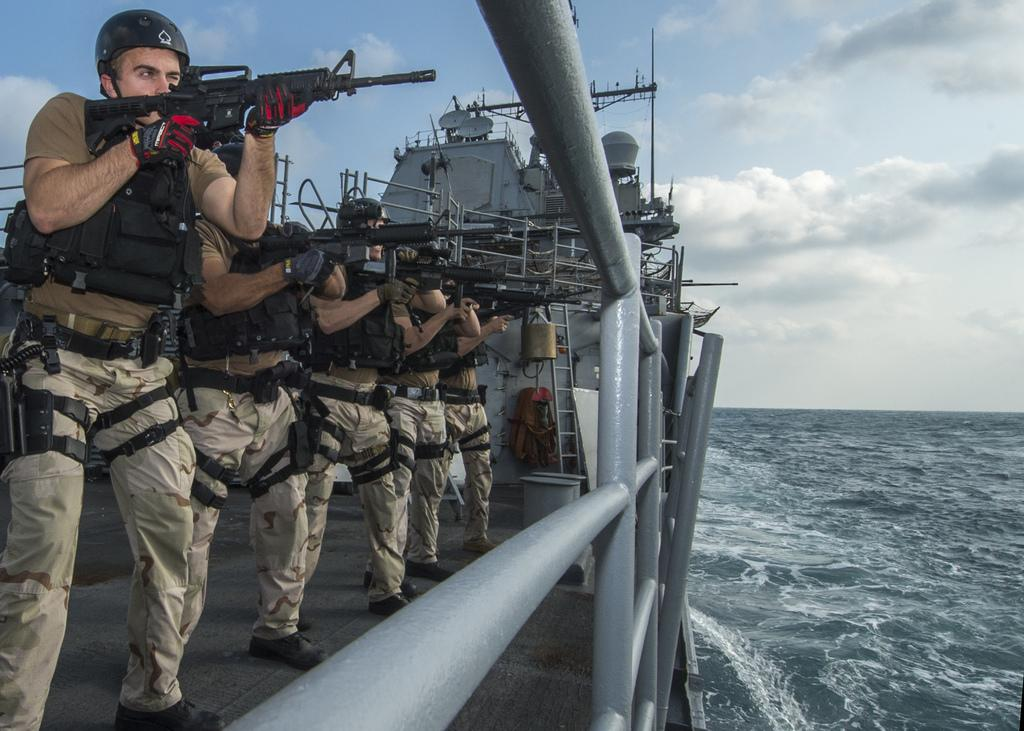Rifle: (68, 35, 449, 198), (241, 216, 516, 284)
